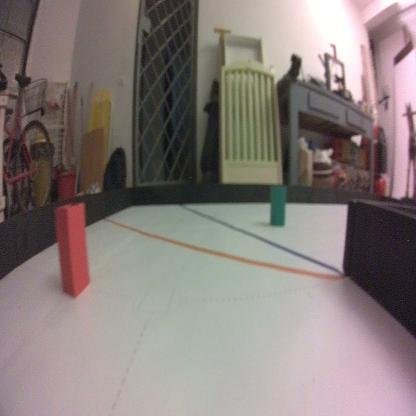green: (270, 186, 286, 228)
red: (52, 201, 91, 298)
